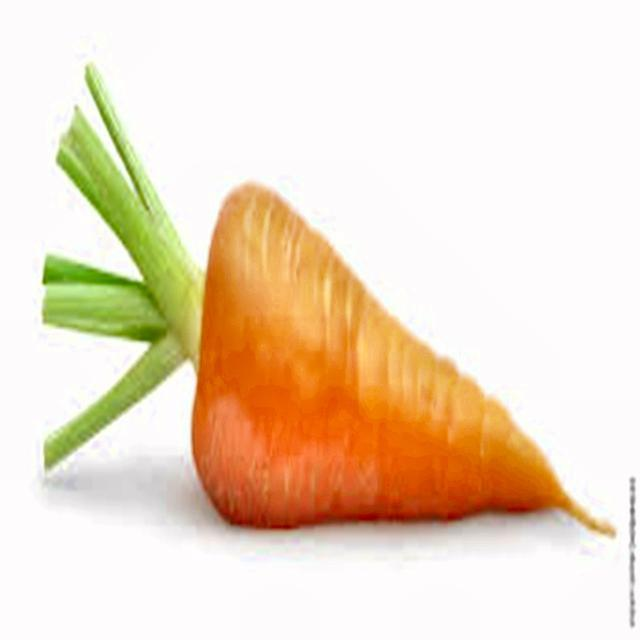carrot: (44, 66, 612, 534)
